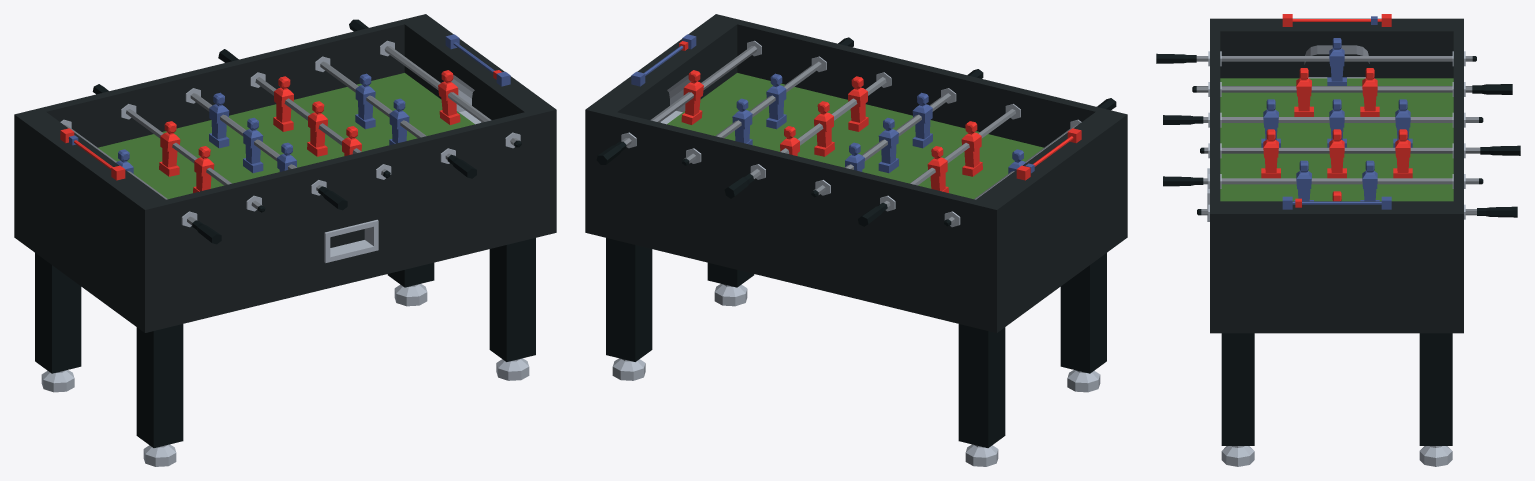
Rendered from SM_Props_Football_01.fbx.
3 renders of one model, left to right at view 1: azimuth 30°, elevation 25°; view 2: azimuth 150°, elevation 25°; view 3: azimuth 270°, elevation 25°, orthographic. The views are drawn at different scales.
Visible parts, largest first — view 1: SM_Props_Football_01; view 2: SM_Props_Football_01; view 3: SM_Props_Football_01.
Boxes of the visible parts, x1,y1,x2,y2 form: SM_Props_Football_01: (14,14,556,466); SM_Props_Football_01: (585,14,1127,466); SM_Props_Football_01: (1156,14,1520,466).
Size of the model in its own units: 1.4 by 0.9 by 1.11.
